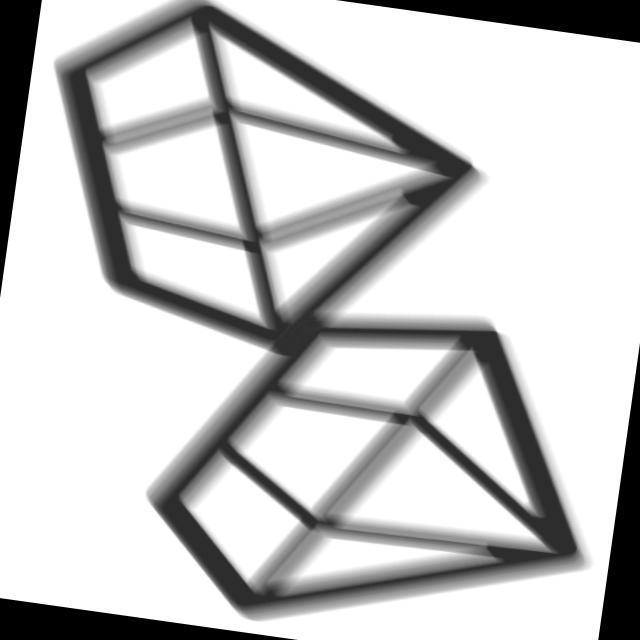diamond: (12, 1, 521, 400), (125, 266, 635, 640)
